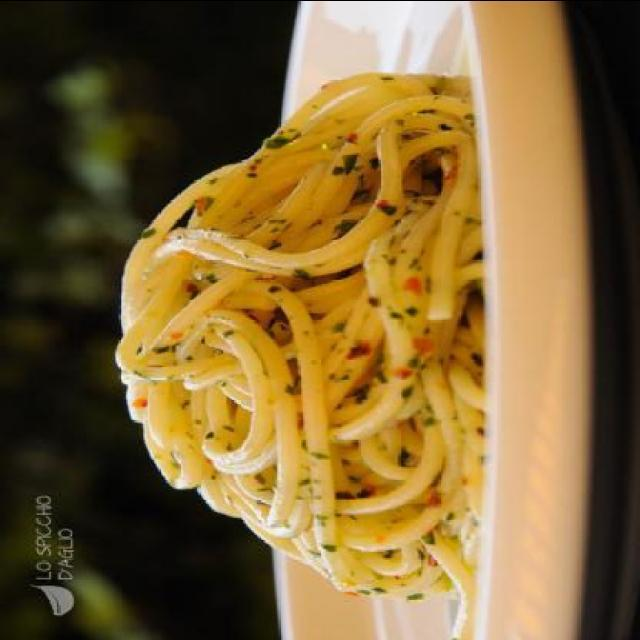Oil pasta: (93, 56, 525, 582)
